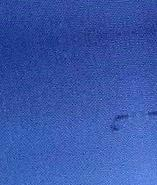knot: (108, 113, 132, 134), (145, 108, 156, 118)
